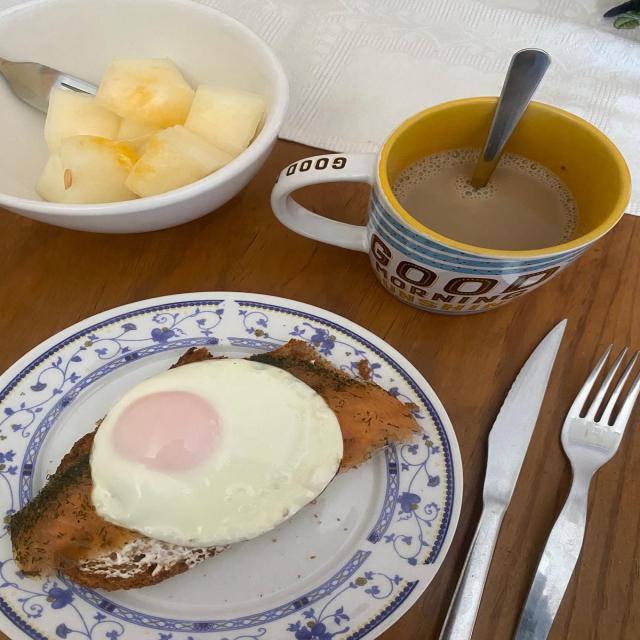coffee: (390, 148, 579, 250)
coffee cup: (271, 97, 631, 315)
fork: (514, 345, 639, 640), (0, 58, 96, 113)
fried egg: (90, 359, 343, 547)
knife: (439, 320, 566, 640)
melon: (37, 58, 265, 204)
plate: (0, 292, 463, 640)
pork loin: (9, 432, 225, 591), (266, 340, 418, 468)
spoon: (470, 48, 551, 188)
